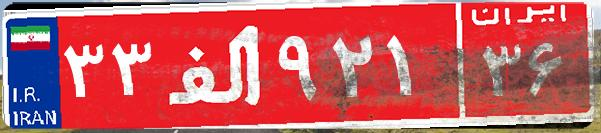1: (385, 28, 445, 110)
2: (330, 28, 385, 110)
3: (57, 26, 110, 107), (475, 38, 525, 113), (110, 28, 158, 105)
6: (525, 38, 570, 115)
9: (273, 28, 330, 110)
الف: (158, 15, 273, 115)
